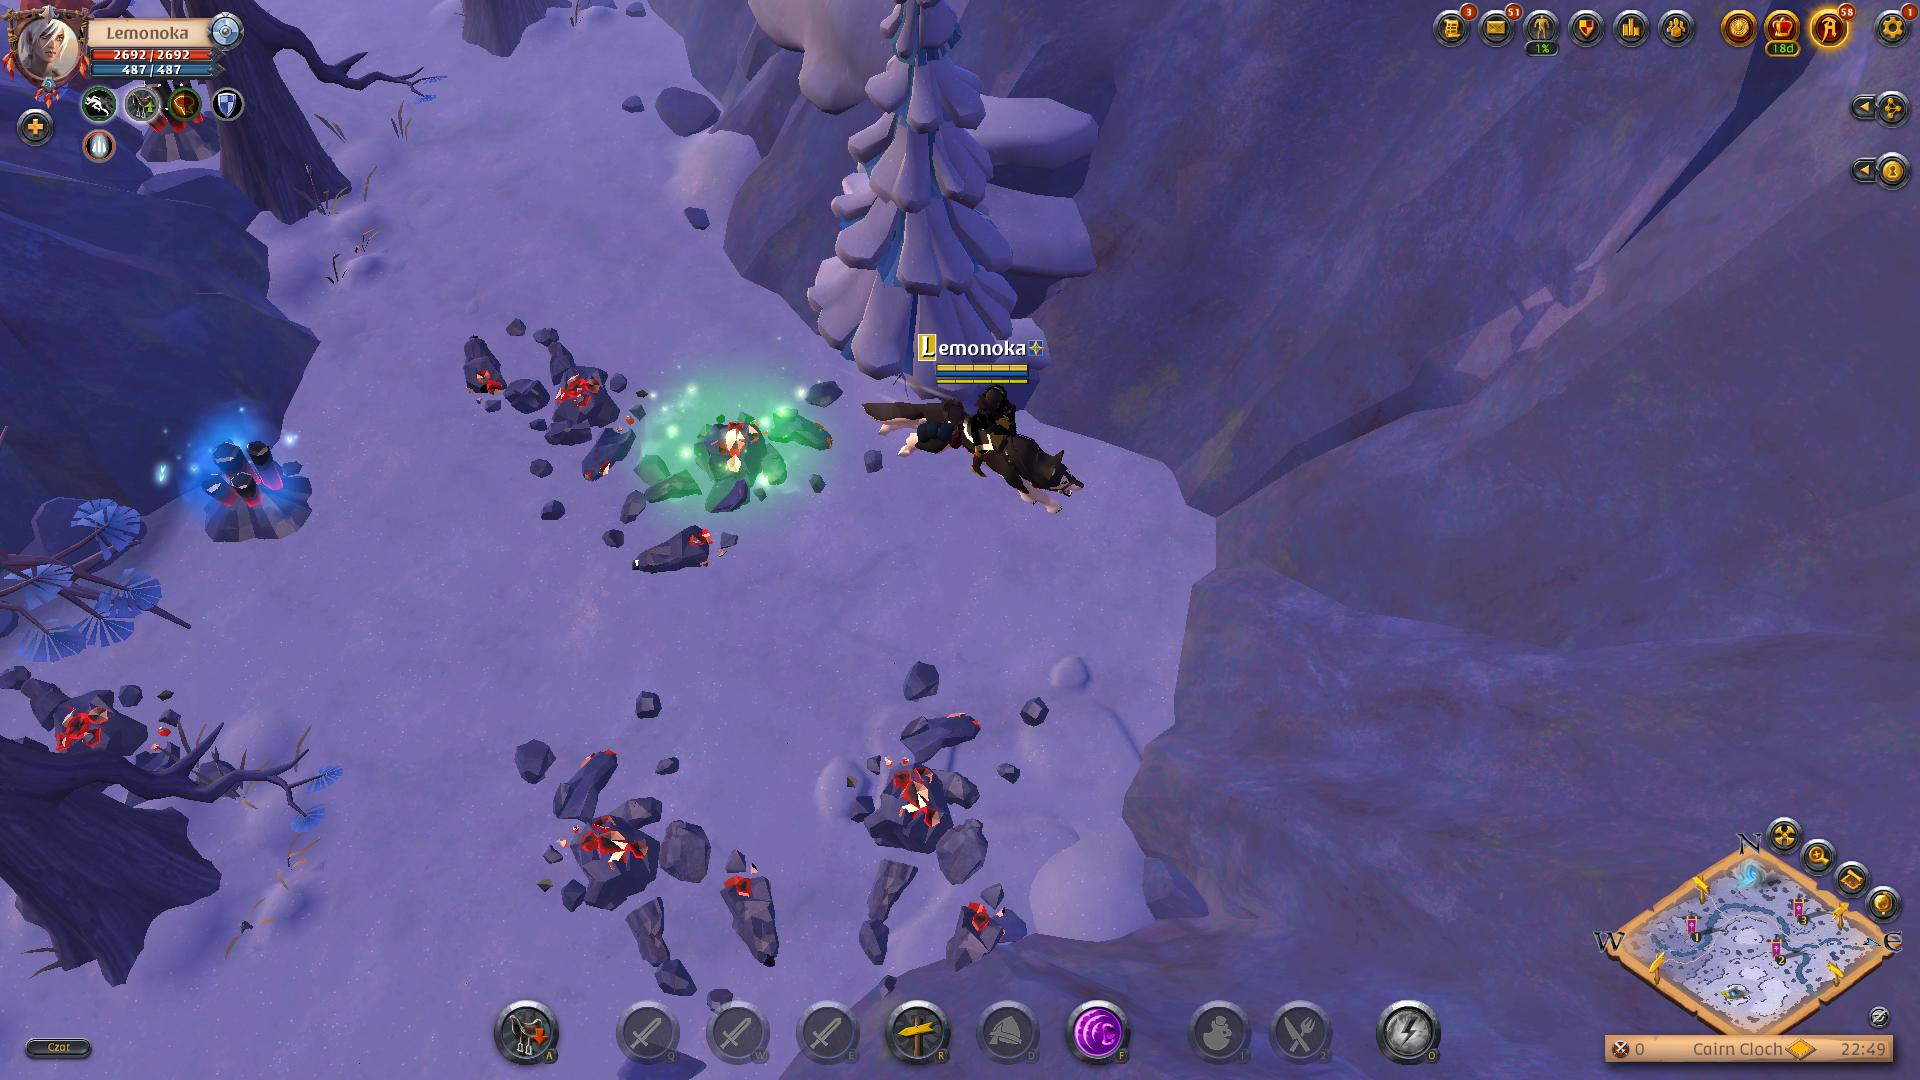ore tier 5: (187, 431, 315, 543)
